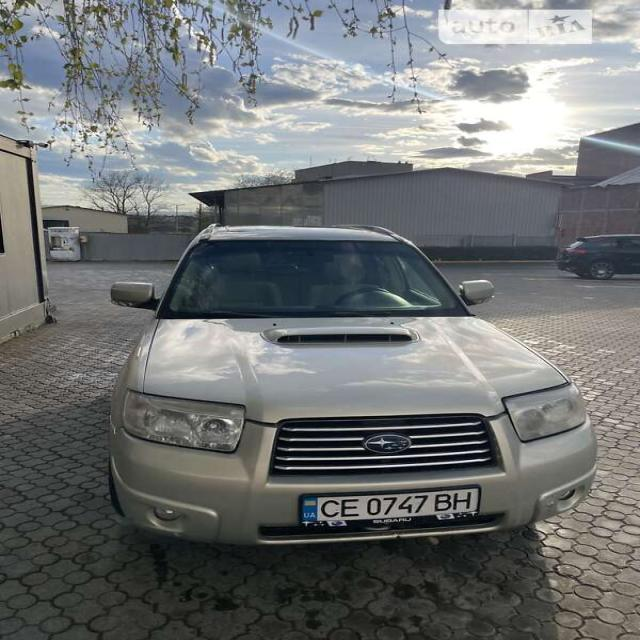plate: (297, 476, 485, 532)
